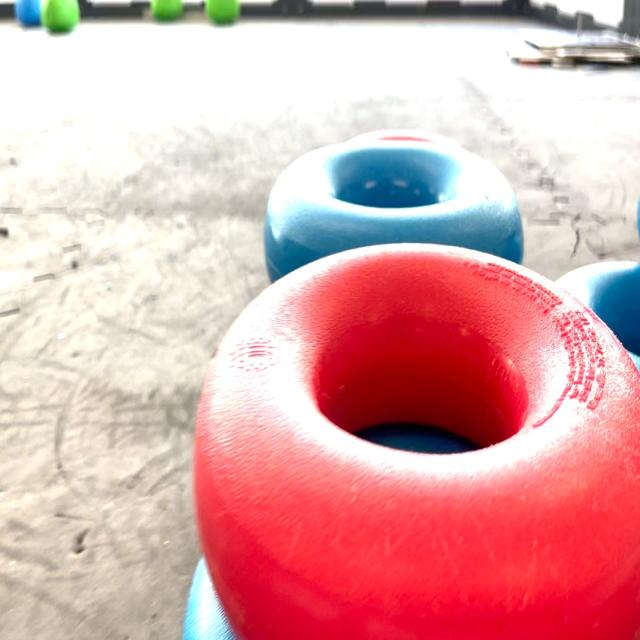Blue-Ring: (264, 136, 524, 281), (554, 259, 640, 372)
Red-Ring: (194, 244, 640, 638)
